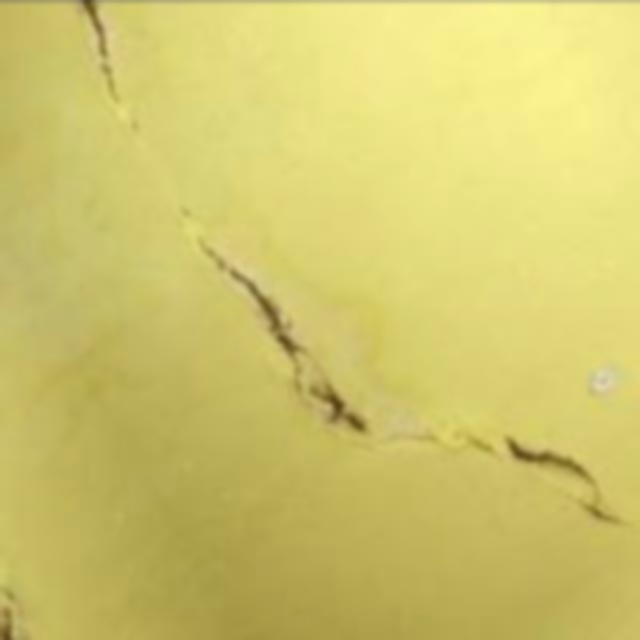SurfaceCrack: (142, 190, 640, 536), (68, 0, 174, 122)
